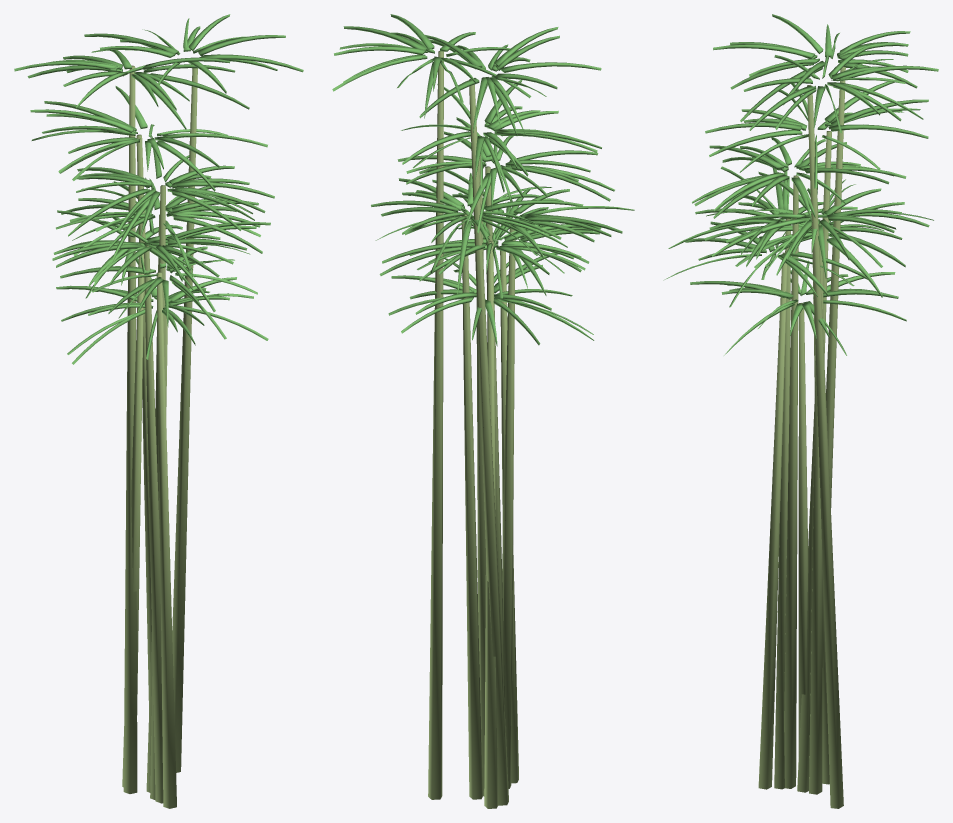
Rendered from papyrus_1.glb.
3 views of the same model, side by side, from view 1: azimuth 30°, elevation 25°; view 2: azimuth 150°, elevation 25°; view 3: azimuth 270°, elevation 25° (orthographic). The views are drawn at different scales.
Visible parts, largest first — view 1: papyrus; view 2: papyrus; view 3: papyrus.
Boxes of the visible parts, <box> form: papyrus: <box>14,14,303,808</box>; papyrus: <box>332,14,634,808</box>; papyrus: <box>663,14,938,808</box>.
Bounding box in the file's own units: 0.6386 × 1.77 × 0.6001.
